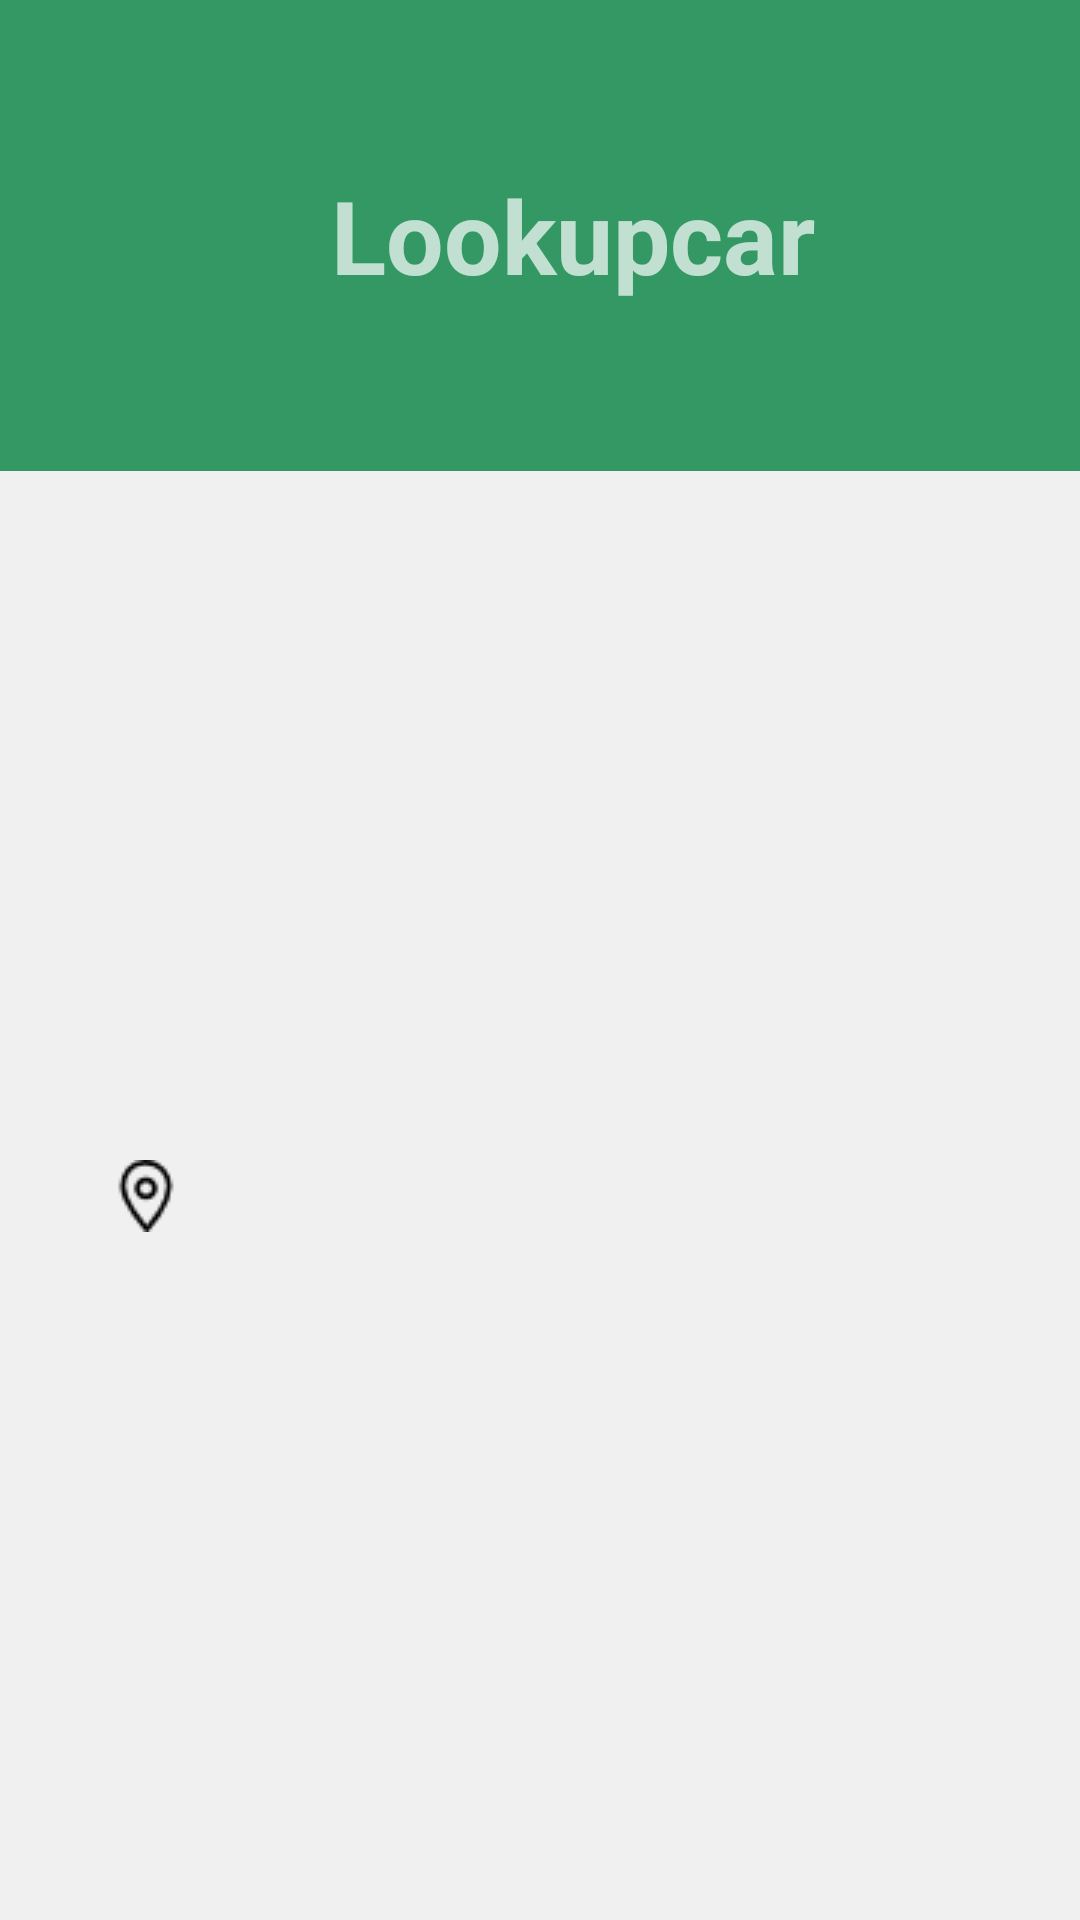

Where to tap for icons on this 1080px×1920px app screen, as (x=x, y=y):
marker: (x=146, y=1196)
